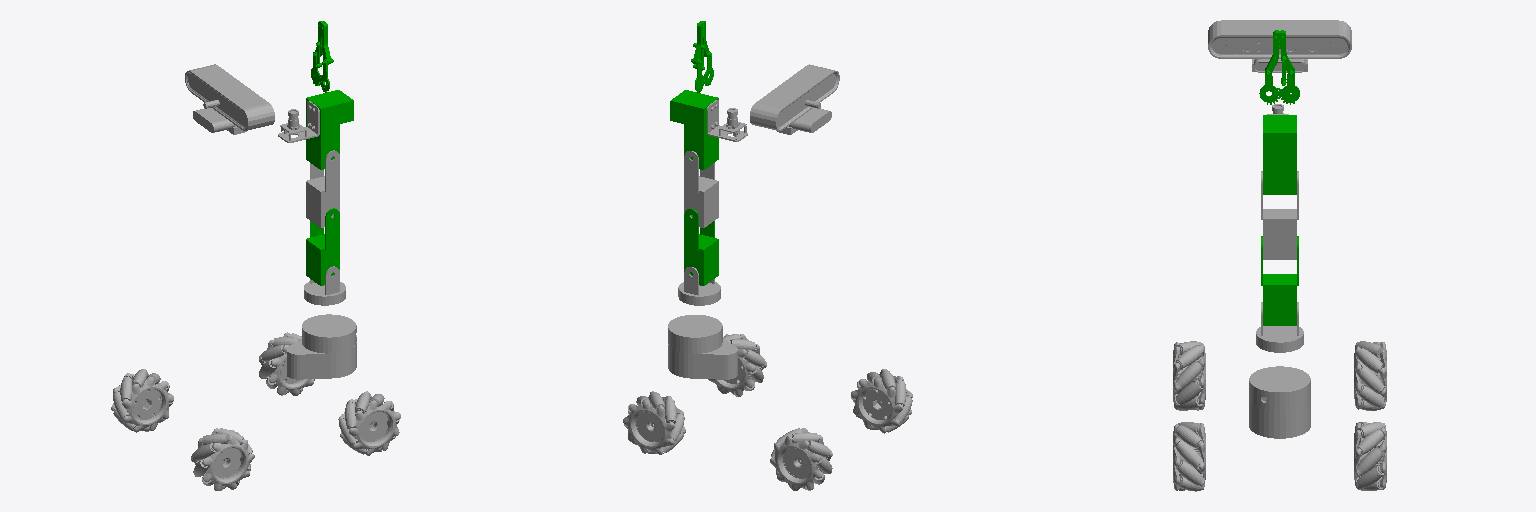
URDF robot description (yahboomcar_X3plus):
<?xml version="1.0" encoding="utf-8"?>
   <robot name="yahboomcar_X3plus">
    <link name="base_footprint"/>
    <link name="imu_link"/>
    <link name="base_link">
        <inertial>
            <origin xyz="-0.0304416859098744 4.23384368655101E-05 0.0448234503408059" rpy="0 0 0"/>
            <mass value="1.0754239466482"/>
            <inertia
                    ixx="0.0208831789264125"
                    ixy="2.4618093127858E-06"
                    ixz="0.00616019290028669"
                    iyy="0.0265621377486244"
                    iyz="-1.10079499865282E-06"
                    izz="0.0129535610833954"/>
        </inertial>
        <visual>
            <origin xyz="0 0 0" rpy="0 0 0"/>
            <geometry>
                <mesh filename="package://meshes/X3plus/visual/base_link_wo_wheels.obj"/>
            </geometry>
            <material name="">
                <color rgba="0 0.7 0 1"/>
            </material>
        </visual>
        <collision>
            <origin xyz="0 0 0" rpy="0 0 0"/>
            <geometry>
                <mesh filename="package://meshes/X3plus/collision/base_link_wo_wheels.obj"/>
            </geometry>
        </collision>
    </link>
    <joint name="base_joint" type="fixed">
        <parent link="base_footprint"/>
        <child link="base_link"/>
        <origin xyz="0.0 0.0 0.076" rpy="0 0 0"/>
    </joint>
    <joint name="base_imu" type="fixed">
        <parent link="base_link"/>
        <child link="imu_link"/>
        <origin xyz="0.001 0.017 0.0322" rpy="0 3.1415 1.5707"/>
    </joint>
    <link name="front_right_wheel">
        <inertial>
            <origin xyz="1.9051E-06 -2.3183E-07 -0.00064079" rpy="0 0 0"/>
            <mass value="0.051532"/>
            <inertia ixx="1.4595E-05" ixy="-4.3975E-10" ixz="4.415E-10"
                     iyy="1.4594E-05" iyz="-1.7476E-09" izz="2.4264E-05"/>
        </inertial>
        <visual>
            <origin xyz="0 0 0" rpy="0 0 0"/>
            <geometry>
                <mesh filename="package://meshes/X3plus/visual/front_right_wheel.obj"/>
            </geometry>
            <material name="">
                <color rgba="0.7 0.7 0.7 1"/>
            </material>
        </visual>
        <collision>
            <origin xyz="0 0 0" rpy="0 0 0"/>
            <geometry>
                <mesh filename="package://meshes/X3plus/collision/front_right_wheel.obj"/>
            </geometry>
        </collision>
    </link>
    <joint name="front_right_joint" type="continuous">
        <origin xyz="0.10528 -0.10401 -0.038935" rpy="-0 0 0"/>
        <parent link="base_link"/>
        <child link="front_right_wheel"/>
        <axis xyz="0 1 0" rpy="0 0 0"/>
        <limit effort="100" velocity="1"/>
    </joint>
    <link name="front_left_wheel">
        <inertial>
            <origin xyz="2.3728E-06 -9.4228E-07 0.00064068" rpy="0 0 0"/>
            <mass value="0.051543"/>
            <inertia ixx="1.4597E-05" ixy="-4.7945E-10" ixz="-2.4786E-10"
                     iyy="1.4598E-05" iyz="1.7972E-09" izz="2.4267E-05"/>
        </inertial>
        <visual>
            <origin xyz="0 0 0" rpy="0 0 0"/>
            <geometry>
                <mesh filename="package://meshes/X3plus/visual/front_left_wheel.obj"/>
            </geometry>
            <material name="">
                <color rgba="0.7 0.7 0.7 1"/>
            </material>
        </visual>
        <collision>
            <origin xyz="0 0 0" rpy="0 0 0"/>
            <geometry>
                <mesh filename="package://meshes/X3plus/collision/front_left_wheel.obj"/>
            </geometry>
        </collision>
    </link>
    <joint name="front_left_joint" type="continuous">
        <origin xyz="0.10537 0.10394 -0.0389" rpy="0 0 0"/>
        <parent link="base_link"/>
        <child link="front_left_wheel"/>
        <axis xyz="0 1 0" rpy="0 0 0"/>
        <limit effort="100" velocity="1"/>
    </joint>
    <link name="back_right_wheel">
        <inertial>
            <origin xyz="-1.75924169923403E-06 1.28388821071107E-06 -0.000590549296238266" rpy="0 0 0"/>
            <mass value="0.051540174053366"/>
            <inertia ixx="1.45974152250002E-05" ixy="1.94850559178397E-10" ixz="-1.61846387282284E-09"
                     iyy="1.4596501955693E-05" iyz="-6.27904057423818E-10" izz="2.42663091380451E-05"/>
        </inertial>
        <visual>
            <origin xyz="0 0 0" rpy="0 0 0"/>
            <geometry>
                <mesh filename="package://meshes/X3plus/visual/back_right_wheel.obj"/>
            </geometry>
            <material name="">
                <color rgba="0.7 0.7 0.7 1"/>
            </material>
        </visual>
        <collision>
            <origin xyz="0 0 0" rpy="0 0 0"/>
            <geometry>
                <mesh filename="package://meshes/X3plus/collision/back_right_wheel.obj"/>
            </geometry>
        </collision>
    </link>
    <joint name="back_right_joint" type="continuous">
        <origin xyz="-0.11466 -0.10394 -0.039515" rpy="0 0 0"/>
        <parent link="base_link"/>
        <child link="back_right_wheel"/>
        <axis xyz="0 1 0" rpy="0 0 0"/>
        <limit effort="100" velocity="1"/>
    </joint>
    <link name="back_left_wheel">
        <inertial>
            <origin xyz="-4.01213085227115E-07 2.04910264598596E-06 0.000590775697051377" rpy="0 0 0"/>
            <mass value="0.0515309299357028"/>
            <inertia ixx="1.45942986129926E-05" ixy="-3.19787215398093E-10" ixz="1.74943062058915E-09"
                     iyy="1.45948727598913E-05" iyz="1.61769812110049E-10" izz="2.4263683888153E-05"/>
        </inertial>
        <visual>
            <origin xyz="0 0 0" rpy="0 0 0"/>
            <geometry>
                <mesh filename="package://meshes/X3plus/visual/back_left_wheel.obj"/>
            </geometry>
            <material name="">
                <color rgba="0.7 0.7 0.7 1"/>
            </material>
        </visual>
        <collision>
            <origin xyz="0 0 0" rpy="0 0 0"/>
            <geometry>
                <mesh filename="package://meshes/X3plus/collision/back_left_wheel.obj"/>
            </geometry>
        </collision>
    </link>
    <joint name="back_left_joint" type="continuous">
        <origin xyz="-0.11459 0.10401 -0.039448" rpy="0 0 0"/>
        <parent link="base_link"/>
        <child link="back_left_wheel"/>
        <axis xyz="0 1 0" rpy="0 0 0"/>
        <limit effort="100" velocity="1"/>
    </joint>
    <link name="camera_link">
        <inertial>
            <origin xyz="-0.00227617338844674 -6.0192031420306E-06 -0.00616567843043764" rpy="0 0 0"/>
            <mass value="0.224346273348015"/>
            <inertia
                    ixx="0.000420259753235012"
                    ixy="2.65423313072081E-08"
                    ixz="-9.20335513714662E-06"
                    iyy="7.89049803518943E-05"
                    iyz="6.08195761013683E-09"
                    izz="0.000414416844201259"/>
        </inertial>
        <visual>
            <origin xyz="0 0 0" rpy="0 0 0"/>
            <geometry>
                <mesh filename="package://meshes/sensor/visual/camera_link.obj"/>
            </geometry>
            <material name="">
                <color rgba="0.7 0.7 0.7 1"/>
            </material>
        </visual>
        <collision>
            <origin xyz="0 0 0" rpy="0 0 0"/>
            <geometry>
                <mesh filename="package://meshes/sensor/collision/camera_link.obj"/>
            </geometry>
        </collision>
    </link>
    <joint name="astra_joint" type="fixed">
        <origin xyz="-0.043645 0 0.41955" rpy="0 0 0"/>
        <parent link="base_link"/>
        <child link="camera_link"/>
    </joint>
    <link name="laser_link">
        <inertial>
            <origin xyz="-0.0193193958962378 0.000338302570666659 -0.01482422577972" rpy="0 0 0"/>
            <mass value="0.0433399617554554"/>
            <inertia
                    ixx="2.03361882296905E-05"
                    ixy="-3.29493708697467E-07"
                    ixz="-9.00810512916648E-06"
                    iyy="4.37540022779682E-05"
                    iyz="-2.16320544253691E-07"
                    izz="4.81888233320734E-05"/>
        </inertial>
        <visual>
            <origin xyz="0 0 0" rpy="0 0 0"/>
            <geometry>
                <mesh filename="package://meshes/sensor/visual/laser_link.obj"/>
            </geometry>
            <material name="">
                <color rgba="0.7 0.7 0.7 1"/>
            </material>
        </visual>
        <collision>
            <origin xyz="0 0 0" rpy="0 0 0"/>
            <geometry>
                <mesh filename="package://meshes/sensor/collision/laser_link.obj"/>
            </geometry>
        </collision>
    </link>
    <joint name="laser_joint" type="fixed">
        <origin xyz="0.10478 0 0.0471" rpy="0 0 0"/>
        <parent link="base_link"/>
        <child link="laser_link"/>
    </joint>

    <link name="arm_link1">
        <inertial>
            <origin xyz="1.99179507982521E-05 -5.98354652829568E-05 0.0114289358828097" rpy="0 0 0"/>
            <mass value="0.0279545499871709"/>
            <inertia
                    ixx="1.19144359314975E-05"
                    ixy="-9.26068510046816E-09"
                    ixz="3.16060516198683E-09"
                    iyy="1.05642517915377E-05"
                    iyz="2.69674403668579E-08"
                    izz="1.49639510661413E-05"/>
        </inertial>
        <visual>
            <origin xyz="0 0 0" rpy="0 0 0"/>
            <geometry>
                <mesh filename="package://meshes/X3plus/visual/arm_link1.obj"/>
            </geometry>
            <material name="">
                <color rgba="0.7 0.7 0.7 1"/>
            </material>
        </visual>
        <collision>
            <origin xyz="0 0 0" rpy="0 0 0"/>
            <geometry>
                <mesh filename="package://meshes/X3plus/collision/arm_link1.obj"/>
            </geometry>
        </collision>
    </link>
    <joint name="arm_joint1" type="revolute">
        <origin xyz="0.09825 0 0.102" rpy="0 0 0"/>
        <parent link="base_link"/>
        <child link="arm_link1"/>
        <axis xyz="0 0 -1"/>
        <limit lower="-1.5708" upper="1.5708" effort="100" velocity="1"/>
    </joint>
    <link name="arm_link2">
        <inertial>
            <origin xyz="0.024903 -0.0022632 -0.00066663" rpy="0 0 0"/>
            <mass value="0.031605"/>
            <inertia
                    ixx="5.8495E-06"
                    ixy="-8.8092E-07"
                    ixz="1.5336E-07"
                    iyy="2.667E-05"
                    iyz="7.1365E-09"
                    izz="2.4695E-05"/>
        </inertial>
        <visual>
            <origin xyz="0 0 0" rpy="0 0 0"/>
            <geometry>
                <mesh filename="package://meshes/X3plus/visual/arm_link2.obj"/>
            </geometry>
            <material name="">
                <color rgba="0 0.7 0 1"/>
            </material>
        </visual>
        <collision>
            <origin xyz="0 0 0" rpy="0 0 0"/>
            <geometry>
                <mesh filename="package://meshes/X3plus/collision/arm_link2.obj"/>
            </geometry>
        </collision>
    </link>
    <joint name="arm_joint2" type="revolute">
        <origin xyz="0 0 0.0405" rpy="-1.5708 0 0"/>
        <parent link="arm_link1"/>
        <child link="arm_link2"/>
        <axis xyz="0 0 -1"/>
        <limit lower="-1.5708" upper="1.5708" effort="100" velocity="1"/>
    </joint>
    <link name="arm_link3">
        <inertial>
            <origin xyz="0.024903 -0.0022634 -0.0013962" rpy="0 0 0"/>
            <mass value="0.031605"/>
            <inertia
                    ixx="5.8492E-06"
                    ixy="-8.8063E-07"
                    ixz="1.4331E-07"
                    iyy="2.667E-05"
                    iyz="8.9675E-09"
                    izz="2.4695E-05"/>
        </inertial>
        <visual>
            <origin xyz="0 0 0" rpy="0 0 0"/>
            <geometry>
                <mesh filename="package://meshes/X3plus/visual/arm_link3.obj"/>
            </geometry>
            <material name="">
                <color rgba="0.7 0.7 0.7 1"/>
            </material>
        </visual>
        <collision>
            <origin xyz="0 0 0" rpy="0 0 0"/>
            <geometry>
                <mesh filename="package://meshes/X3plus/collision/arm_link3.obj"/>
            </geometry>
        </collision>
    </link>
    <joint name="arm_joint3" type="revolute">
        <origin xyz="0 -0.0829 0" rpy="0 0 0"/>
        <parent link="arm_link2"/>
        <child link="arm_link3"/>
        <axis xyz="0 0 -1"/>
        <limit lower="-1.5708" upper="1.5708" effort="100" velocity="1"/>
    </joint>
    <link name="arm_link4">
        <inertial>
            <origin xyz="0.036246 0.0023413 -0.0019655" rpy="0 0 0"/>
            <mass value="0.049766"/>
            <inertia
                    ixx="1.1857E-05"
                    ixy="-6.5371E-06"
                    ixz="-4.1044E-08"
                    iyy="3.6323E-05"
                    iyz="-1.2132E-07"
                    izz="4.1769E-05"/>
        </inertial>
        <visual>
            <origin xyz="0 0 0" rpy="0 0 0"/>
            <geometry>
                <mesh filename="package://meshes/X3plus/visual/arm_link4.obj"/>
            </geometry>
            <material name="">
                <color rgba="0 0.7 0 1"/>
            </material>
        </visual>
        <collision>
            <origin xyz="0 0 0" rpy="0 0 0"/>
            <geometry>
                <mesh filename="package://meshes/X3plus/collision/arm_link4.obj"/>
            </geometry>
        </collision>
    </link>
    <joint name="arm_joint4" type="revolute">
        <origin xyz="0 -0.0829 0" rpy="0 0 0"/>
        <parent link="arm_link3"/>
        <child link="arm_link4"/>
        <axis xyz="0 0 -1"/>
        <limit lower="-1.5708" upper="1.5708" effort="100" velocity="1"/>
    </joint>
    <link name="arm_link5">
        <inertial>
            <origin xyz="0.0023228 0.018169 0.028684" rpy="0 0 0"/>
            <mass value="0.04069"/>
            <inertia
                    ixx="1.0627E-05"
                    ixy="-3.0402E-07"
                    ixz="-1.9524E-07"
                    iyy="9.6306E-06"
                    iyz="-1.3265E-06"
                    izz="1.3298E-05"/>
        </inertial>
        <visual>
            <origin xyz="0 0 0" rpy="0 0 0"/>
            <geometry>
                <mesh filename="package://meshes/X3plus/visual/arm_link5.obj"/>
            </geometry>
            <material name="">
                <color rgba="0.7 0.7 0.7 1"/>
            </material>
        </visual>
        <collision>
            <origin xyz="0 0 0" rpy="0 0 0"/>
            <geometry>
                <mesh filename="package://meshes/X3plus/collision/arm_link5.obj"/>
            </geometry>
        </collision>
    </link>
    <joint name="arm_joint5" type="revolute">
        <origin xyz="-0.00215 -0.17455 0" rpy="1.5708 0 0"/>
        <parent link="arm_link4"/>
        <child link="arm_link5"/>
        <axis xyz="0 0 1"/>
        <limit lower="-1.5708" upper="3.14159" effort="100" velocity="1"/>
    </joint>

    <link name="rlink1">
        <inertial>
            <origin xyz="0.00653227489887718 0.000416767821288678 0.000980984132845697" rpy="0 0 0"/>
            <mass value="0.00117883201961805"/>
            <inertia
                    ixx="3.30415008842026E-08"
                    ixy="8.05114594599862E-09"
                    ixz="-1.46441757999184E-10"
                    iyy="1.67254031134004E-07"
                    iyz="-9.31932225400159E-12"
                    izz="1.99277285249309E-07"/>
        </inertial>
        <visual>
            <origin xyz="0 0 0" rpy="0 0 0"/>
            <geometry>
                <mesh filename="package://meshes/X3plus/visual/rlink1.obj"/>
            </geometry>
            <material name="">
                <color rgba="0 0.7 0 1"/>
            </material>
        </visual>
        <collision>
            <origin xyz="0 0 0" rpy="0 0 0"/>
            <geometry>
                <mesh filename="package://meshes/X3plus/visual/rlink1.obj"/>
            </geometry>
        </collision>
    </link>
    <joint name="grip_joint" type="revolute">
        <origin xyz="-0.0035 -0.012625 -0.0685" rpy="0 -1.5708 0"/>
        <parent link="arm_link5"/>
        <child link="rlink1"/>
        <axis xyz="0 0 1"/>
        <limit lower="-1.54" upper="0" effort="100" velocity="1"/>
    </joint>
    <link name="rlink2">
        <inertial>
            <origin xyz="0.021158 0.0063295 -0.0030251" rpy="0 0 0"/>
            <mass value="0.0024469"/>
            <inertia
                    ixx="5.188E-08"
                    ixy="-1.2303E-07"
                    ixz="-1.2978E-09"
                    iyy="6.3204E-07"
                    iyz="-3.8824E-10"
                    izz="6.6364E-07"/>
        </inertial>
        <visual>
            <origin xyz="0 0 0" rpy="0 0 0"/>
            <geometry>
                <mesh filename="package://meshes/X3plus/visual/rlink2.obj"/>
            </geometry>
            <material name="">
                <color rgba="0 0.7 0 1"/>
            </material>
        </visual>
        <collision>
            <origin xyz="0 0 0" rpy="0 0 0"/>
            <geometry>
                <mesh filename="package://meshes/X3plus/visual/rlink2.obj"/>
            </geometry>
        </collision>
    </link>
    <joint name="rlink_joint2" type="continuous">
        <origin xyz="0.03 -0.00075429 0" rpy="0 0 0"/>
        <parent link="rlink1"/>
        <child link="rlink2"/>
        <axis xyz="0 0 1"/>
        <mimic joint="grip_joint" multiplier="-1"/>
    </joint>
    <link name="rlink3">
        <inertial>
            <origin xyz="0.014355 1.1499E-05 -0.0033992" rpy="0 0 0"/>
            <mass value="0.00087627"/>
            <inertia
                    ixx="2.0534E-08"
                    ixy="-1.0235E-10"
                    ixz="1.074E-09"
                    iyy="1.4825E-07"
                    iyz="8.7073E-13"
                    izz="1.3089E-07"/>
        </inertial>
        <visual>
            <origin xyz="0 0 0" rpy="0 0 0"/>
            <geometry>
                <mesh filename="package://meshes/X3plus/visual/rlink3.obj"/>
            </geometry>
            <material name="">
                <color rgba="0 0.7 0 1"/>
            </material>
        </visual>
        <collision>
            <origin xyz="0 0 0" rpy="0 0 0"/>
            <geometry>
                <mesh filename="package://meshes/X3plus/visual/rlink3.obj"/>
            </geometry>
        </collision>
    </link>
    <joint name="rlink_joint3" type="continuous">
        <origin xyz="-0.0035 -0.0045 -0.0505" rpy="0 -1.5708 0"/>
        <parent link="arm_link5"/>
        <child link="rlink3"/>
        <axis xyz="0 0 1"/>
        <mimic joint="grip_joint" multiplier="1"/>
    </joint>
    <link name="llink1">
        <inertial>
            <origin xyz="0.00628617364795481 -0.000318530407893543 0.00100000338924466" rpy="0 0 0"/>
            <mass value="0.00121010771282268"/>
            <inertia
                    ixx="3.18226609060835E-08"
                    ixy="-8.06236004452728E-09"
                    ixz="3.99064856025629E-14"
                    iyy="1.69267681405915E-07"
                    iyz="1.87039773440675E-14"
                    izz="2.00283878176223E-07"/>
        </inertial>
        <visual>
            <origin xyz="0 0 0" rpy="0 0 0"/>
            <geometry>
                <mesh filename="package://meshes/X3plus/visual/llink1.obj"/>
            </geometry>
            <material name="">
                <color rgba="0 0.7 0 1"/>
            </material>
        </visual>
        <collision>
            <origin xyz="0 0 0" rpy="0 0 0"/>
            <geometry>
                <mesh filename="package://meshes/X3plus/visual/llink1.obj"/>
            </geometry>
        </collision>
    </link>
    <joint name="llink_joint1" type="continuous">
        <origin xyz="-0.0035 0.012375 -0.0685" rpy="0 -1.5708 0"/>
        <parent link="arm_link5"/>
        <child link="llink1"/>
        <axis xyz="0 0 1"/>
        <mimic joint="grip_joint" multiplier="-1"/>
    </joint>
    <link name="llink2">
        <inertial>
            <origin xyz="0.021159 -0.0063248 -0.0030251" rpy="0 0 0"/>
            <mass value="0.0024469"/>
            <inertia ixx="5.1826E-08" ixy="1.229E-07" ixz="-1.2979E-09" iyy="6.321E-07" iyz="3.8796E-10"
                     izz="6.6364E-07"/>
        </inertial>
        <visual>
            <origin xyz="0 0 0" rpy="0 0 0"/>
            <geometry>
                <mesh filename="package://meshes/X3plus/visual/llink2.obj"/>
            </geometry>
            <material name="">
                <color rgba="0 0.7 0 1"/>
            </material>
        </visual>
        <collision>
            <origin xyz="0 0 0" rpy="0 0 0"/>
            <geometry>
                <mesh filename="package://meshes/X3plus/visual/llink2.obj"/>
            </geometry>
        </collision>
    </link>
    <joint name="llink_joint2" type="continuous">
        <origin xyz="0.03 0.00065104 0" rpy="0 0 0"/>
        <parent link="llink1"/>
        <child link="llink2"/>
        <axis xyz="0 0 1"/>
        <mimic joint="grip_joint" multiplier="1"/>
    </joint>
    <link name="llink3">
        <inertial>
            <origin xyz="0.014354 -7.4795E-05 -0.0033992" rpy="0 0 0"/>
            <mass value="0.00087627"/>
            <inertia ixx="2.0537E-08" ixy="6.6549E-10" ixz="1.074E-09" iyy="1.4825E-07" iyz="-5.5867E-12"
                     izz="1.3089E-07"/>
        </inertial>
        <visual>
            <origin xyz="0 0 0" rpy="0 0 0"/>
            <geometry>
                <mesh filename="package://meshes/X3plus/visual/llink3.obj"/>
            </geometry>
            <material name="">
                <color rgba="0 0.7 0 1"/>
            </material>
        </visual>
        <collision>
            <origin xyz="0 0 0" rpy="0 0 0"/>
            <geometry>
                <mesh filename="package://meshes/X3plus/visual/llink3.obj"/>
            </geometry>
        </collision>
    </link>
    <joint name="llink_joint3" type="continuous">
        <origin xyz="-0.0035 0.0045 -0.0505" rpy="0 -1.5708 0"/>
        <parent link="arm_link5"/>
        <child link="llink3"/>
        <axis xyz="0 0 1"/>
        <mimic joint="grip_joint" multiplier="-1"/>
    </joint>

    <link name="mono_link">
        <inertial>
            <origin xyz="5.8458E-05 0.0095015 -0.0014824" rpy="0 0 0"/>
            <mass value="0.0097589"/>
            <inertia ixx="3.3488E-06" ixy="1.3667E-08" ixz="6.4235E-09" iyy="1.8662E-06" iyz="-1.0265E-07"
                     izz="2.5696E-06"/>
        </inertial>
        <visual>
            <origin xyz="0 0 0" rpy="0 0 0"/>
            <geometry>
                <mesh filename="package://meshes/sensor/visual/mono_link.obj"/>
            </geometry>
            <material name="">
                <color rgba="0.7 0.7 0.7 1"/>
            </material>
        </visual>
        <collision>
            <origin xyz="0 0 0" rpy="0 0 0"/>
            <geometry>
                <mesh filename="package://meshes/sensor/collision/mono_link.obj"/>
            </geometry>
        </collision>
    </link>
    <joint name="mono_joint" type="fixed">
        <origin xyz="-0.0481 -0.05145 -0.0022" rpy="1.5708 0 0"/>
        <parent link="arm_link4"/>
        <child link="mono_link"/>
    </joint>
</robot>

--- Facts derived from the render (not from the file) ---
3 views of the same robot in one strip: view 1: azimuth 30°, elevation 25°; view 2: azimuth 150°, elevation 25°; view 3: azimuth 270°, elevation 25° (orthographic).
Model yahboomcar_X3plus with 21 links and 20 joints (6 revolute, 9 continuous, 5 fixed), rooted at base_footprint, posed every joint at zero.
Links seen in each view (by area): view 1: camera_link, laser_link, back_left_wheel, back_right_wheel, front_right_wheel, arm_link4, arm_link2, arm_link3, front_left_wheel, arm_link1, mono_link; view 2: camera_link, laser_link, back_left_wheel, back_right_wheel, front_left_wheel, arm_link4, arm_link2, arm_link3, front_right_wheel, arm_link1, mono_link; view 3: camera_link, laser_link, arm_link4, back_right_wheel, front_right_wheel, back_left_wheel, front_left_wheel, arm_link2, arm_link3, arm_link1.
Link boxes in pixels (left/top/right/bottom): camera_link: left=185, top=64, right=274, bottom=134; laser_link: left=287, top=314, right=356, bottom=379; back_left_wheel: left=111, top=369, right=173, bottom=432; back_right_wheel: left=191, top=428, right=254, bottom=490; front_right_wheel: left=338, top=391, right=400, bottom=455; arm_link4: left=306, top=90, right=353, bottom=169; arm_link2: left=306, top=208, right=339, bottom=285; arm_link3: left=306, top=150, right=339, bottom=227; front_left_wheel: left=259, top=332, right=314, bottom=395; arm_link1: left=304, top=266, right=345, bottom=305; mono_link: left=278, top=101, right=319, bottom=142; camera_link: left=750, top=64, right=839, bottom=134; laser_link: left=668, top=315, right=737, bottom=379; back_left_wheel: left=770, top=428, right=832, bottom=490; back_right_wheel: left=851, top=369, right=912, bottom=433; front_left_wheel: left=623, top=391, right=685, bottom=454; arm_link4: left=670, top=90, right=718, bottom=169; arm_link2: left=684, top=209, right=718, bottom=285; arm_link3: left=684, top=151, right=718, bottom=227; front_right_wheel: left=708, top=334, right=766, bottom=396; arm_link1: left=678, top=267, right=720, bottom=305; mono_link: left=707, top=100, right=747, bottom=141; camera_link: left=1208, top=20, right=1351, bottom=72; laser_link: left=1249, top=366, right=1310, bottom=438; arm_link4: left=1263, top=115, right=1296, bottom=194; back_right_wheel: left=1173, top=341, right=1205, bottom=410; front_right_wheel: left=1173, top=422, right=1205, bottom=491; back_left_wheel: left=1354, top=341, right=1386, bottom=410; front_left_wheel: left=1354, top=422, right=1386, bottom=490; arm_link2: left=1261, top=236, right=1298, bottom=325; arm_link3: left=1261, top=171, right=1298, bottom=259; arm_link1: left=1256, top=302, right=1303, bottom=352.
Bounding box of the posed robot: 0.3 × 0.2456 × 0.5744 m (x, y, z).
16 mesh visuals loaded from 19 distinct referenced files (16 OBJ); not drawn: 3 (reference not matched to a file when rendering).
